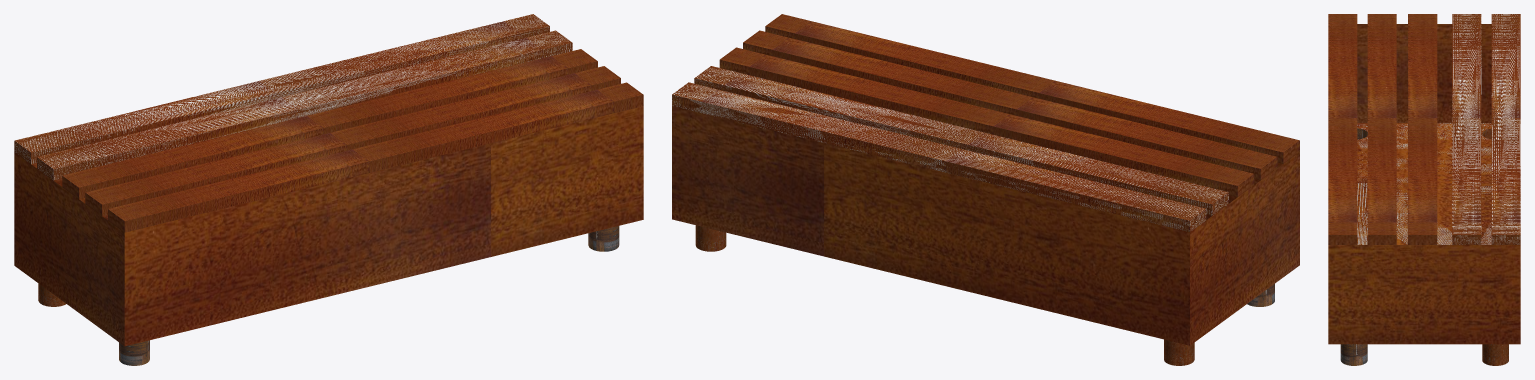
3 renders of one model, left to right at view 1: azimuth 30°, elevation 25°; view 2: azimuth 150°, elevation 25°; view 3: azimuth 270°, elevation 25°, orthographic. The views are drawn at different scales.
Visible parts, largest first — view 1: mesh6_mesh6-geometry, mesh3_mesh3-geometry, mesh1_mesh1-geometry, mesh5_mesh5-geometry, mesh4_mesh4-geometry, mesh2_mesh2-geometry; view 2: mesh6_mesh6-geometry, mesh2_mesh2-geometry, mesh5_mesh5-geometry, mesh4_mesh4-geometry, mesh3_mesh3-geometry, mesh1_mesh1-geometry; view 3: mesh6_mesh6-geometry, mesh1_mesh1-geometry, mesh2_mesh2-geometry, mesh3_mesh3-geometry, mesh4_mesh4-geometry, mesh5_mesh5-geometry.
Boxes of the visible parts, box(x1,y1,x2,y2) form: mesh6_mesh6-geometry: box(14, 106, 643, 365); mesh3_mesh3-geometry: box(108, 82, 643, 232); mesh1_mesh1-geometry: box(37, 30, 572, 180); mesh5_mesh5-geometry: box(62, 49, 597, 198); mesh4_mesh4-geometry: box(85, 66, 620, 215); mesh2_mesh2-geometry: box(14, 14, 549, 163); mesh6_mesh6-geometry: box(672, 106, 1299, 365); mesh2_mesh2-geometry: box(672, 82, 1206, 231); mesh5_mesh5-geometry: box(719, 47, 1254, 197); mesh4_mesh4-geometry: box(743, 30, 1277, 180); mesh3_mesh3-geometry: box(765, 14, 1299, 163); mesh1_mesh1-geometry: box(694, 66, 1228, 215); mesh6_mesh6-geometry: box(1328, 24, 1520, 365); mesh1_mesh1-geometry: box(1452, 14, 1481, 244); mesh2_mesh2-geometry: box(1491, 14, 1520, 244); mesh3_mesh3-geometry: box(1328, 14, 1357, 244); mesh4_mesh4-geometry: box(1367, 14, 1396, 244); mesh5_mesh5-geometry: box(1408, 14, 1437, 244).
Bounding box in the file's own units: 0.9064 × 0.2594 × 0.3335.
